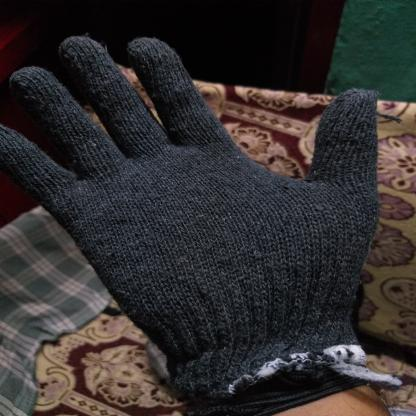gloved_hand: (0, 28, 381, 412)
